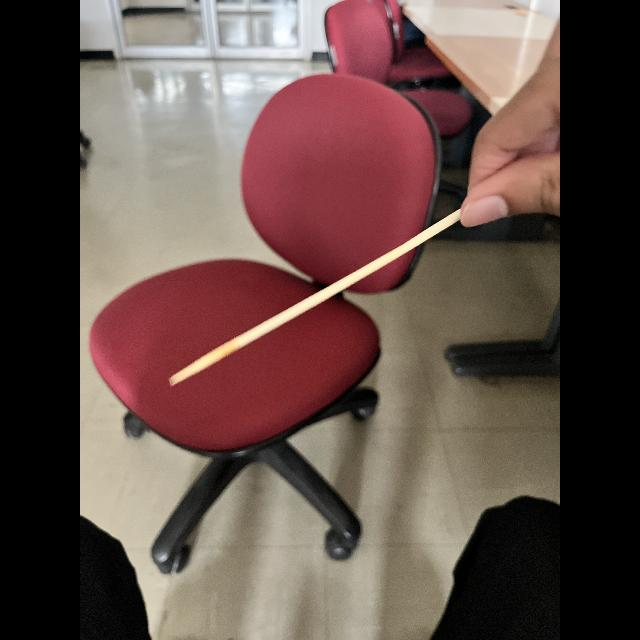stick: (161, 204, 467, 392)
